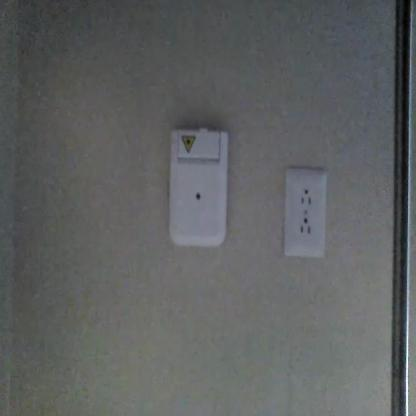OUTLET: (284, 168, 326, 256)
